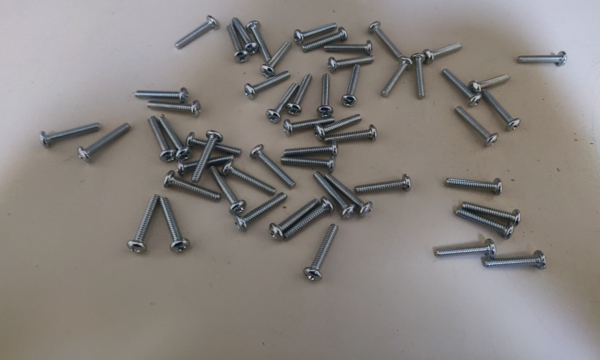longscrew: (122, 194, 161, 255), (240, 191, 288, 238), (479, 88, 523, 137), (281, 202, 331, 244), (79, 122, 131, 162), (308, 174, 354, 219), (305, 222, 337, 285), (324, 175, 373, 216), (253, 144, 298, 188), (452, 102, 495, 148), (192, 131, 229, 184), (40, 118, 103, 149), (454, 207, 514, 239), (164, 168, 219, 202), (220, 162, 276, 195), (273, 196, 317, 237), (157, 199, 189, 255), (209, 168, 246, 215), (441, 68, 482, 107), (187, 128, 244, 156), (174, 17, 223, 49), (442, 174, 506, 198), (460, 203, 524, 227), (433, 239, 497, 263), (486, 251, 550, 275), (157, 115, 191, 159), (352, 171, 412, 195), (265, 80, 298, 123), (283, 73, 316, 116), (146, 116, 174, 165), (245, 70, 291, 99), (263, 32, 291, 79), (176, 154, 238, 175), (365, 20, 400, 57), (382, 54, 411, 96), (316, 114, 361, 139), (324, 127, 380, 147), (225, 21, 250, 65), (234, 12, 259, 56), (248, 17, 273, 60), (329, 49, 372, 73), (284, 115, 333, 136), (134, 83, 188, 102), (313, 73, 336, 117), (344, 63, 367, 107), (304, 28, 346, 52), (296, 20, 339, 43), (279, 154, 336, 171), (330, 33, 372, 56), (150, 98, 203, 115), (517, 49, 567, 66), (423, 43, 467, 62), (282, 144, 342, 157), (467, 76, 518, 88), (418, 55, 425, 104)
